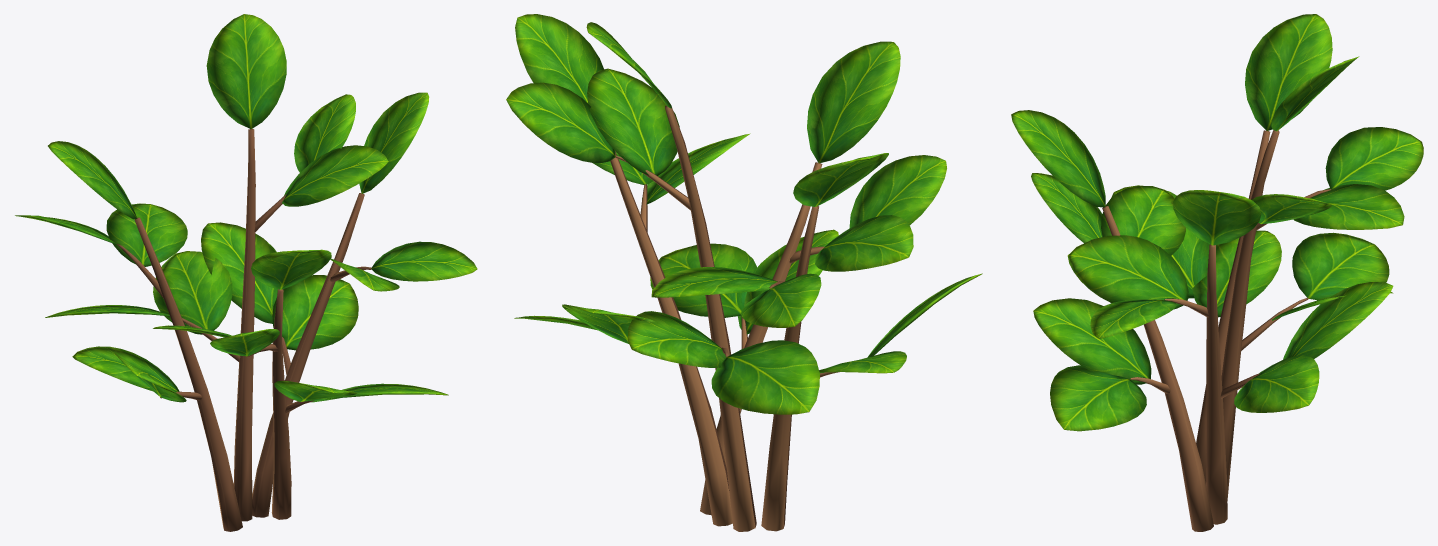
The model's file is NP_Blueberry_Young_LOD1.fbx.
3 renders of one model, left to right at view 1: azimuth 30°, elevation 25°; view 2: azimuth 150°, elevation 25°; view 3: azimuth 270°, elevation 25°, orthographic. The views are drawn at different scales.
Parts seen in each view (by area): view 1: NP_Blueberry_Young; view 2: NP_Blueberry_Young; view 3: NP_Blueberry_Young.
Part boxes in pixels (left/top/right/bottom): NP_Blueberry_Young: left=15, top=14, right=477, bottom=531; NP_Blueberry_Young: left=506, top=14, right=982, bottom=531; NP_Blueberry_Young: left=1011, top=14, right=1423, bottom=531.
Bounding box in the file's own units: 39.06 × 48.49 × 37.05.
